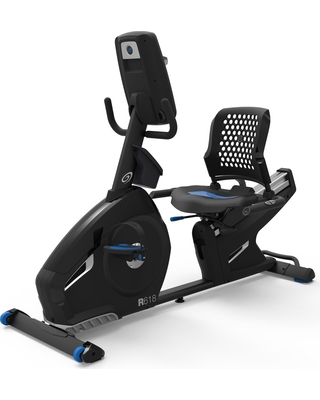gym_bike: (8, 36, 310, 372)
